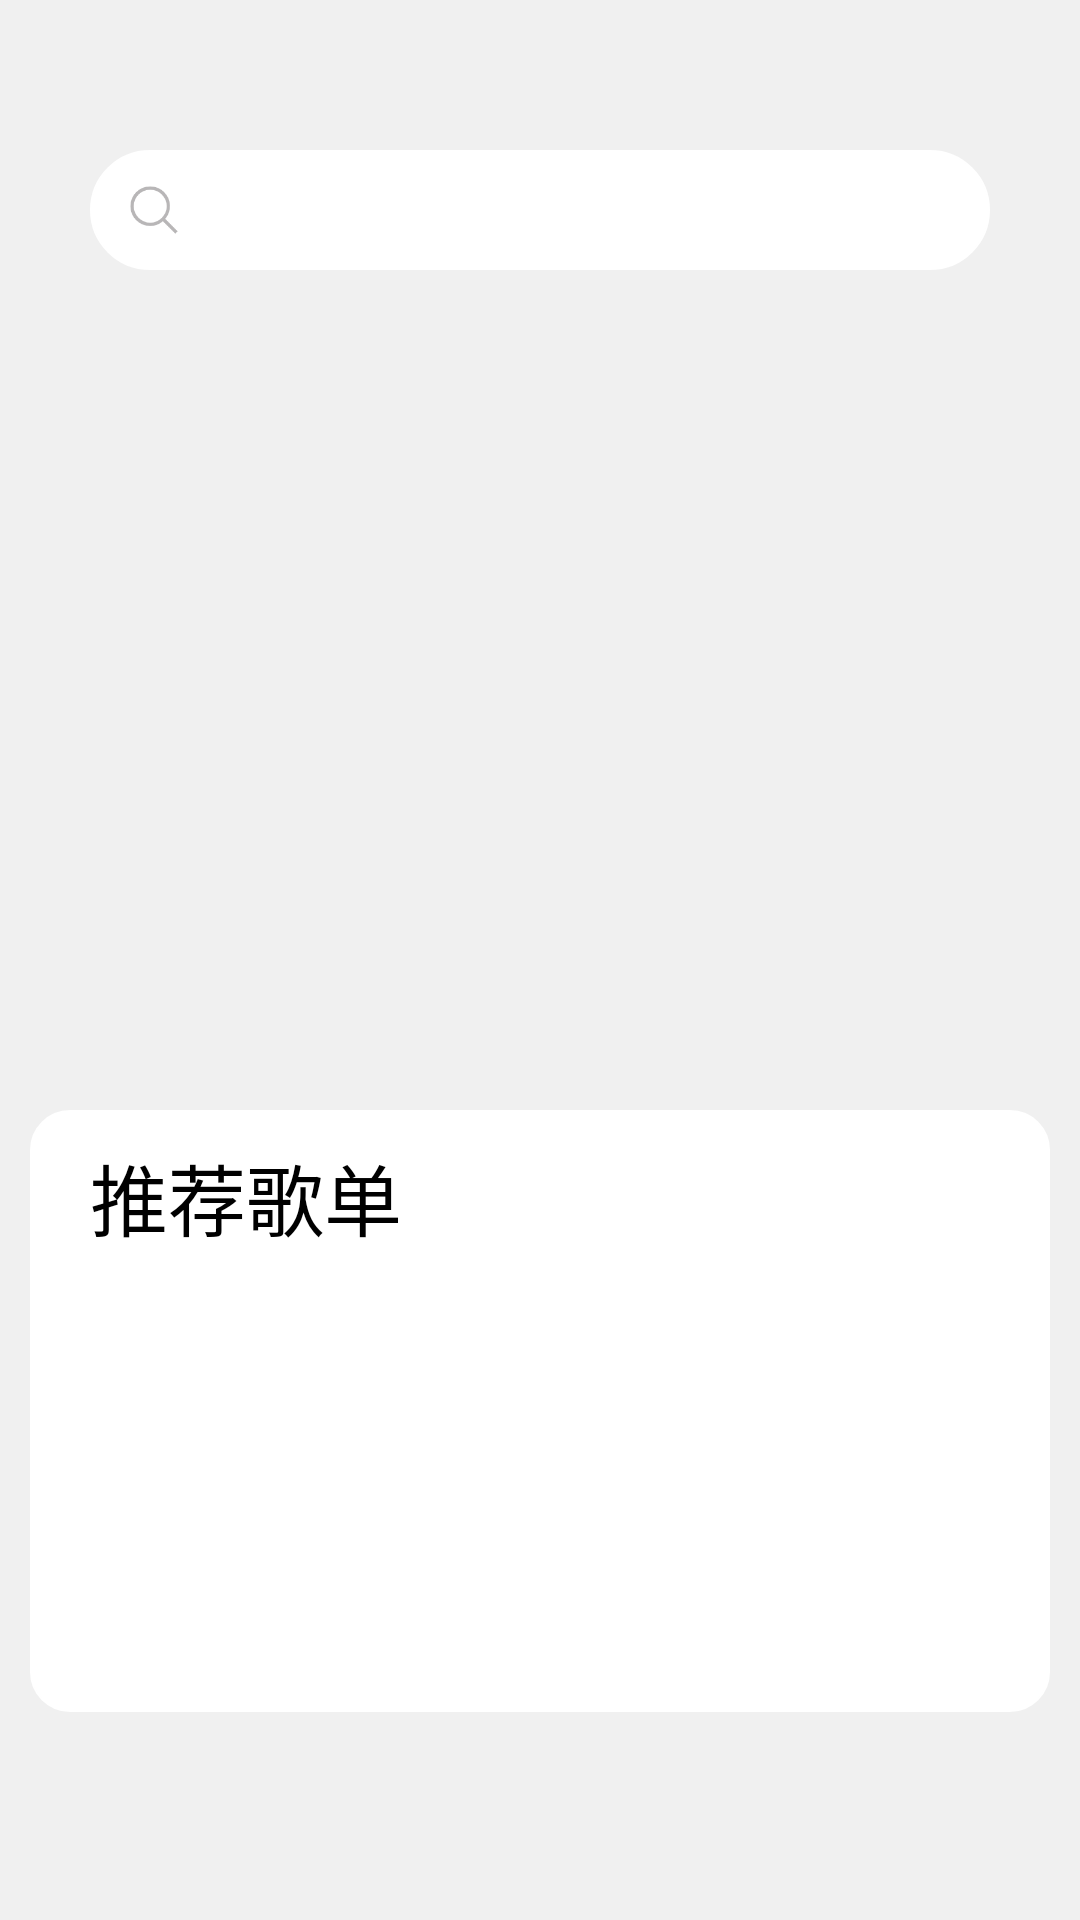

Where icons sit on this 1080w x 1920h app screen, as box(x1, y1, x2, y2):
search: box(90, 150, 218, 270)
